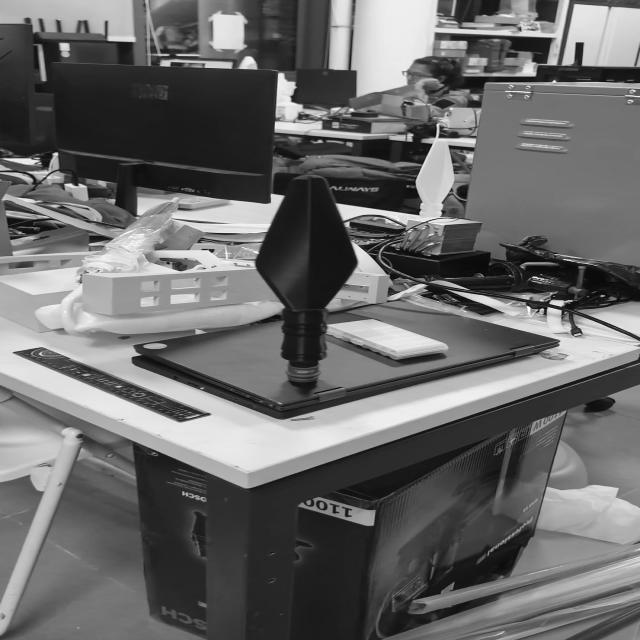base: (287, 366, 320, 382)
